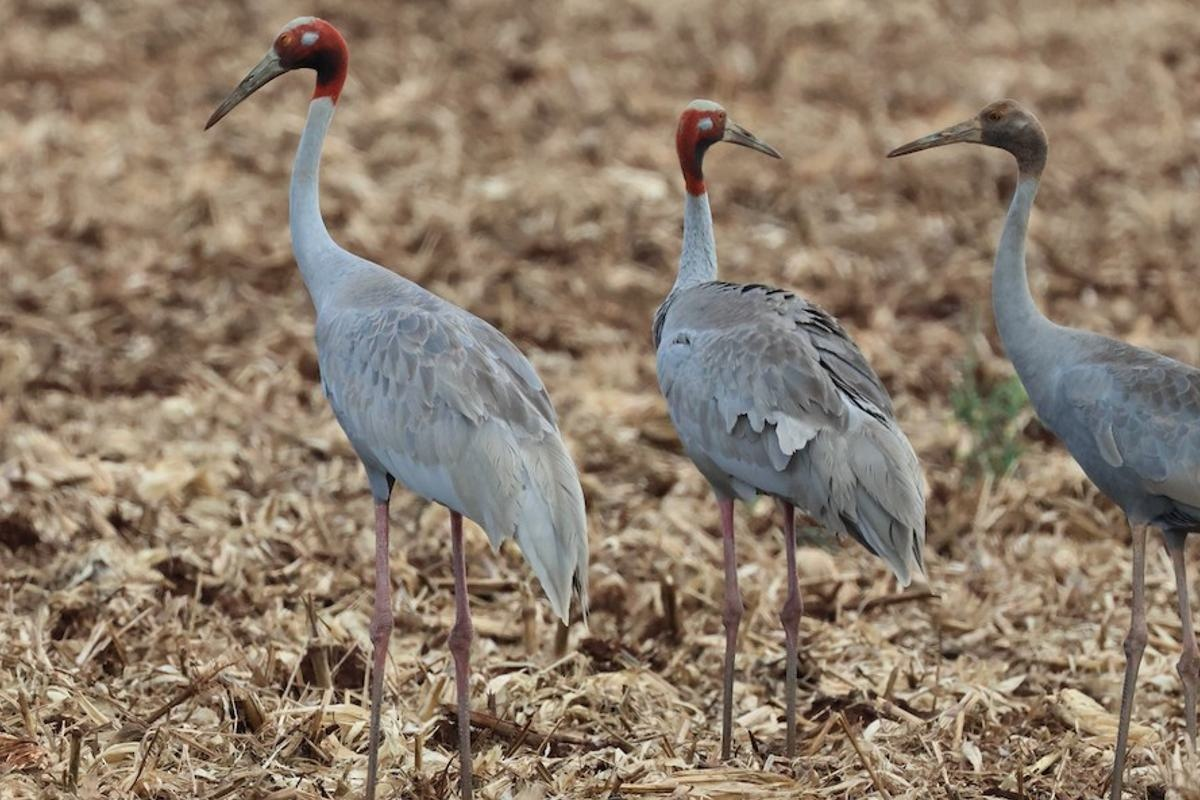crane: (198, 27, 565, 800), (895, 103, 1200, 800), (647, 63, 926, 783)
